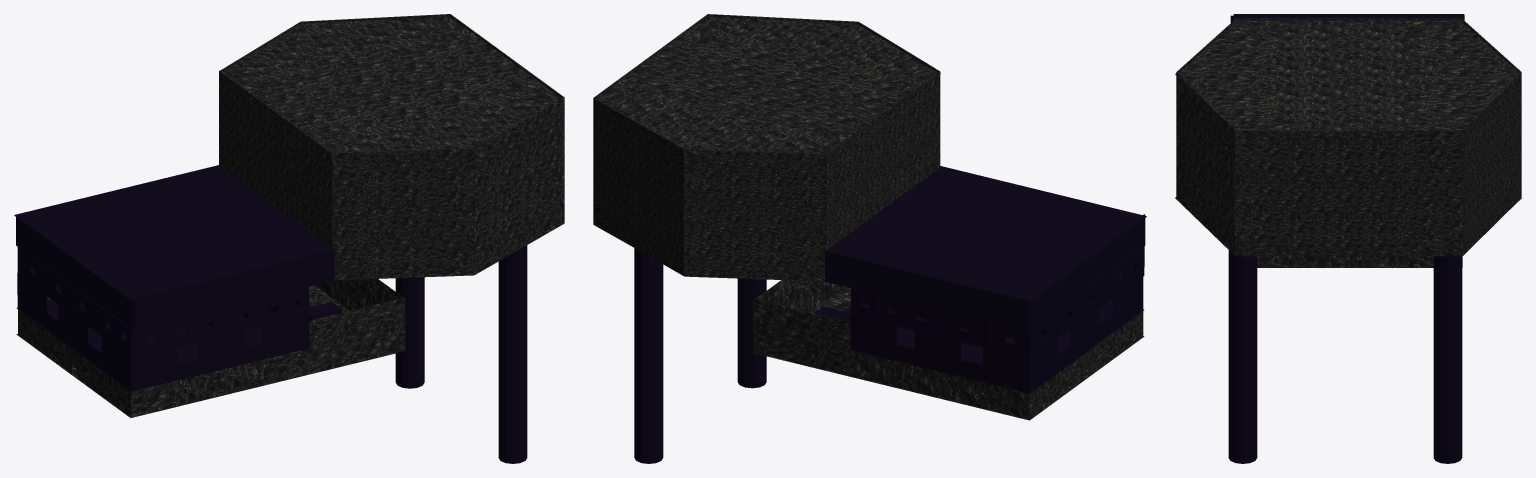
File: mindSetFrontBuilding.glb
The picture shows the model from 3 angles, left to right: view 1: azimuth 30°, elevation 25°; view 2: azimuth 150°, elevation 25°; view 3: azimuth 270°, elevation 25°; orthographic projection.
Parts seen in each view (by area): view 1: coreRoomHead, roofTopHead, Cube.440, Cube.441, Cylinder.001, Cube.447, Cube.182, Cube.444, Cube.180, Cube.448, Cube.445, Cube.443 (+16 smaller); view 2: coreRoomHead, roofTopHead, Cube.076, Cube.077, Cylinder, Cube.446, Cube.444, Cube.183, Cube.012, Cube.448, Cube.443, Cube.445 (+16 smaller); view 3: coreRoomHead, Cube.442, Cube.077, Cube.441, Cylinder.001, Cylinder, Cube.186, roofTopHead, Cube.011.
Boxes of the visible parts, x1,y1,x2,y2 form: coreRoomHead: [223, 16, 560, 156]; roofTopHead: [14, 165, 336, 300]; Cube.440: [332, 148, 473, 279]; Cube.441: [473, 97, 564, 274]; Cylinder.001: [498, 245, 527, 463]; Cube.447: [131, 250, 334, 330]; Cube.182: [307, 297, 405, 373]; Cube.444: [279, 115, 332, 248]; Cube.180: [130, 349, 308, 416]; Cube.448: [16, 217, 135, 331]; Cube.445: [249, 93, 300, 209]; Cube.443: [219, 70, 272, 187]; coreRoomHead: [596, 16, 940, 156]; roofTopHead: [823, 166, 1146, 301]; Cube.076: [684, 149, 826, 280]; Cube.077: [593, 98, 684, 275]; Cylinder: [634, 248, 663, 463]; Cube.446: [825, 252, 1030, 329]; Cube.444: [886, 71, 940, 205]; Cube.183: [753, 299, 850, 375]; Cube.012: [851, 350, 1029, 419]; Cube.448: [1027, 214, 1145, 332]; Cube.443: [825, 116, 878, 250]; Cube.445: [856, 95, 906, 227]; coreRoomHead: [1175, 20, 1518, 130]; Cube.442: [1235, 130, 1462, 256]; Cube.077: [1462, 72, 1521, 255]; Cube.441: [1176, 72, 1235, 255]; Cylinder.001: [1228, 250, 1257, 463]; Cylinder: [1433, 256, 1462, 463]; Cube.186: [1257, 256, 1433, 266]; roofTopHead: [1233, 14, 1464, 20]; Cube.011: [1257, 256, 1462, 267].
Size of the model in its own units: 1526 by 1177 by 1055.
2 materials, 1 textured.
